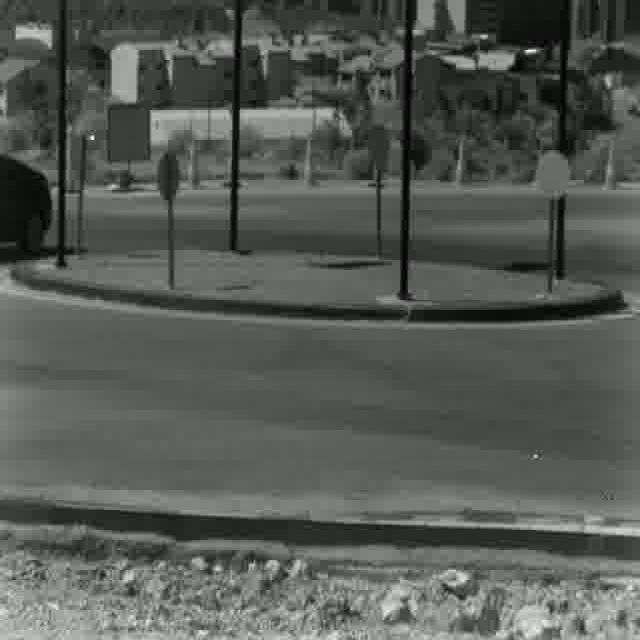Car: (0, 149, 49, 259)
